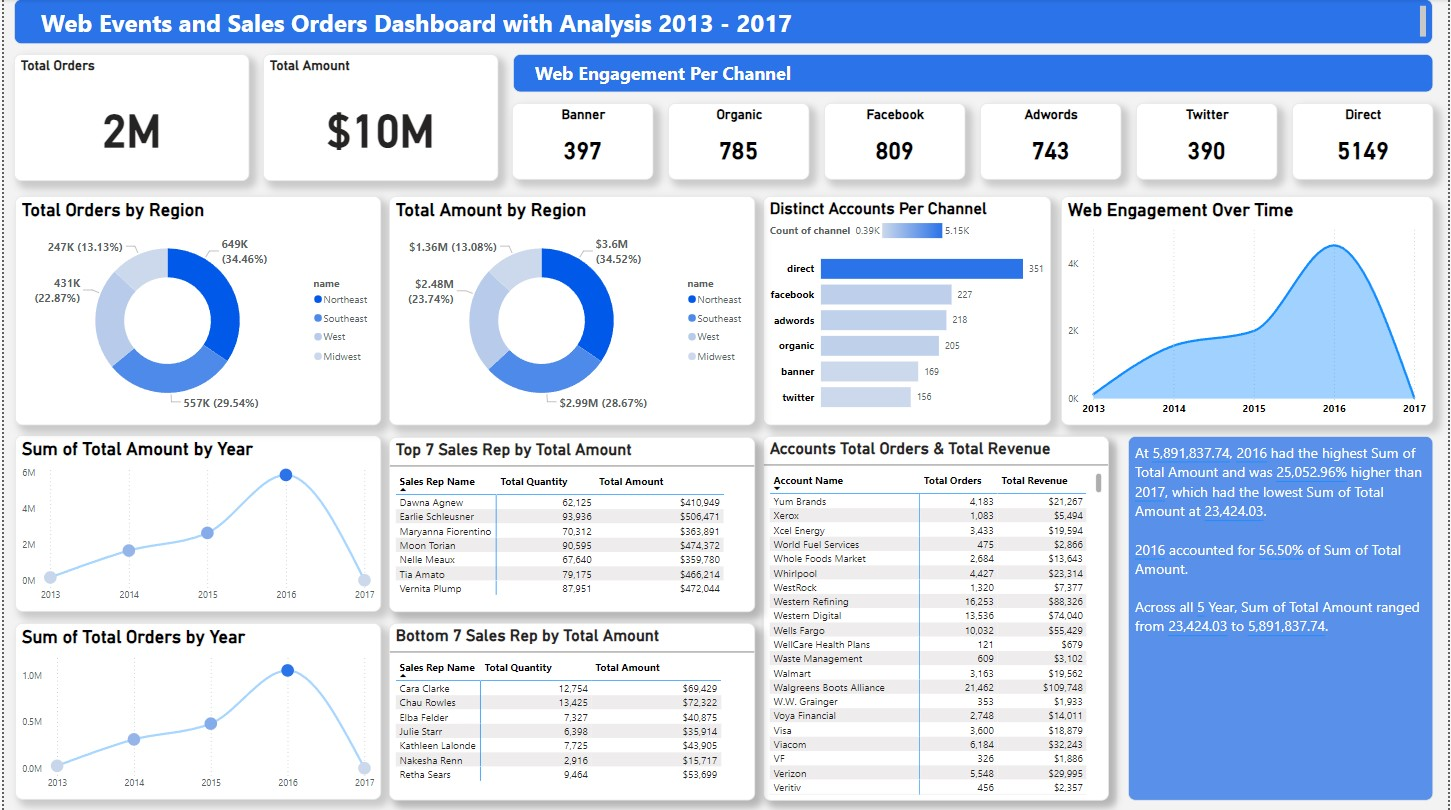

This screenshot's page, from the dashboard's own definition file:
{"tool":"powerbi","page":{"name":"Dashboard","canvas":[1920,1080],"ordinal":0},"visuals":[{"type":"textbox","box":[13.3,0,1887.3,59.9],"z":0},{"type":"card","title":"Total Orders","fields":{"Values":["orders.Total Quantity"]},"box":[13.3,73.2,312.6,168.9],"z":1000},{"type":"card","title":"Total Amount","fields":{"Values":["orders.total_amt_usd"]},"box":[344.5,73.2,312.6,168.9],"z":2000},{"type":"clusteredBarChart","title":"Distinct Accounts Per Channel","fields":{"Category":["web_events.channel"],"Y":["web_events.account_id"]},"box":[1009.5,262,383.1,304.6],"z":3000},{"type":"areaChart","title":"Web  Engagement Over Time","fields":{"Category":["Calendar Table.Year","Calendar Table.Quarter Name","Calendar Table.Month","Calendar Table.Date"],"Y":["web_events.web_events_id"]},"box":[1405.9,262,494.8,304.6],"z":4000},{"type":"lineChart","fields":{"Category":["Calendar Table.Year","Calendar Table.Quarter","Calendar Table.Month"],"Y":["orders.Total Amount"]},"box":[14.6,580.6,486.8,235.4],"z":5000},{"type":"donutChart","title":"Total Orders by Region","fields":{"Category":["region.name"],"Y":["orders.Total Quantity"]},"box":[14.6,262,486.8,304.6],"z":6000},{"type":"donutChart","title":"Total Amount by Region","fields":{"Category":["region.name"],"Y":["orders.Total Amount"]},"box":[512.1,262,486.8,304.6],"z":7000},{"type":"lineChart","title":"Sum of Total Orders by Year","fields":{"Category":["Calendar Table.Year","Calendar Table.Quarter","Calendar Table.Month"],"Y":["orders.Total Quantity"]},"box":[14.6,830,486.8,235.4],"z":8000},{"type":"card","title":"Adwords","fields":{"Values":["web_events.web_events_id"]},"box":[1298.1,138.3,187.5,102.4],"z":9000},{"type":"card","title":"Banner ","fields":{"Values":["web_events.web_events_id"]},"box":[675.7,138.3,187.5,102.4],"z":10000},{"type":"card","title":"Direct","fields":{"Values":["web_events.web_events_id"]},"box":[1713.1,138.3,187.5,102.4],"z":11000},{"type":"card","title":"Facebook ","fields":{"Values":["web_events.web_events_id"]},"box":[1090.6,138.3,187.5,102.4],"z":12000},{"type":"card","title":"Organic","fields":{"Values":["web_events.web_events_id"]},"box":[883.2,138.3,187.5,102.4],"z":13000},{"type":"card","title":"Twitter","fields":{"Values":["web_events.web_events_id"]},"box":[1505.6,138.3,187.5,102.4],"z":14000},{"type":"textbox","box":[677,73.2,1223.6,50.5],"z":15000},{"type":"pivotTable","title":"Accounts Total Orders & Total Revenue","fields":{"Values":["orders.Total Quantity","orders.Total Amount"],"Rows":["accounts.name"]},"box":[1009.5,581.2,460.2,485.5],"z":16000},{"type":"pivotTable","title":"Top 7 Sales Rep by Total Amount","fields":{"Values":["orders.Total Quantity","orders.Total Amount"],"Rows":["sales_reps.name"]},"box":[512.1,582.1,487.3,233.4],"z":17000},{"type":"textbox","box":[1495,581,406,485],"z":18000},{"type":"pivotTable","title":"Bottom 7 Sales Rep by Total Amount","fields":{"Values":["orders.Total Quantity","orders.Total Amount"],"Rows":["sales_reps.name"]},"box":[512.1,830.2,487.3,236.4],"z":19000}]}

Visuals, with their boxes in screenshot pixels (x1, y1, x2, y2), scaled from the page's 1920x1080 canvas onto the 1451x810 screenshot:
textbox: bbox=[10, 0, 1436, 45]
"Total Orders" card: bbox=[10, 55, 246, 182]
"Total Amount" card: bbox=[260, 55, 497, 182]
"Distinct Accounts Per Channel" clusteredBarChart: bbox=[763, 196, 1052, 425]
"Web  Engagement Over Time" areaChart: bbox=[1062, 196, 1436, 425]
lineChart - Calendar Table.Year x Calendar Table.Quarter: bbox=[11, 435, 379, 612]
"Total Orders by Region" donutChart: bbox=[11, 196, 379, 425]
"Total Amount by Region" donutChart: bbox=[387, 196, 755, 425]
"Sum of Total Orders by Year" lineChart: bbox=[11, 622, 379, 799]
"Adwords" card: bbox=[981, 104, 1123, 181]
"Banner " card: bbox=[511, 104, 652, 181]
"Direct" card: bbox=[1295, 104, 1436, 181]
"Facebook " card: bbox=[824, 104, 966, 181]
"Organic" card: bbox=[667, 104, 809, 181]
"Twitter" card: bbox=[1138, 104, 1280, 181]
textbox: bbox=[512, 55, 1436, 93]
"Accounts Total Orders & Total Revenue" pivotTable: bbox=[763, 436, 1111, 800]
"Top 7 Sales Rep by Total Amount" pivotTable: bbox=[387, 437, 755, 612]
textbox: bbox=[1130, 436, 1437, 800]
"Bottom 7 Sales Rep by Total Amount" pivotTable: bbox=[387, 623, 755, 800]
